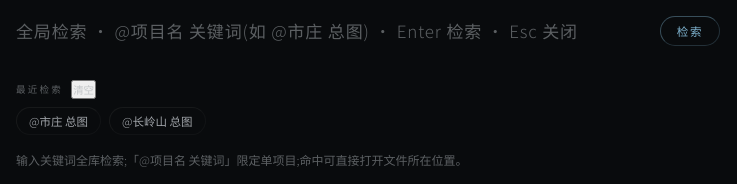
Test: GlobalSearch 交互 › 未匹配项目 → 降级全库并提示,不空白
Type "@不存在 总图" into the field at (332,31), box [16,18,648,43]
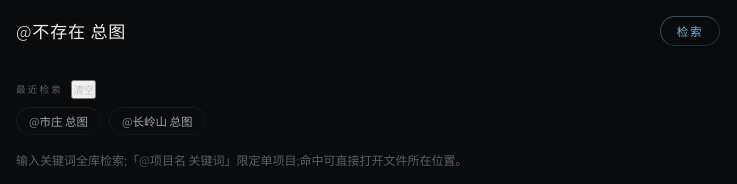
Press Enter in the field, box [16,18,648,43]
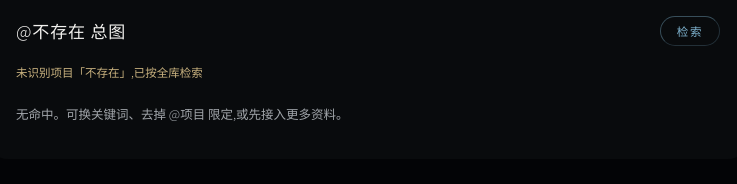
Result: the text "未识别项目「不存在」,已按全库检索" is shown at [16,64,203,80]
